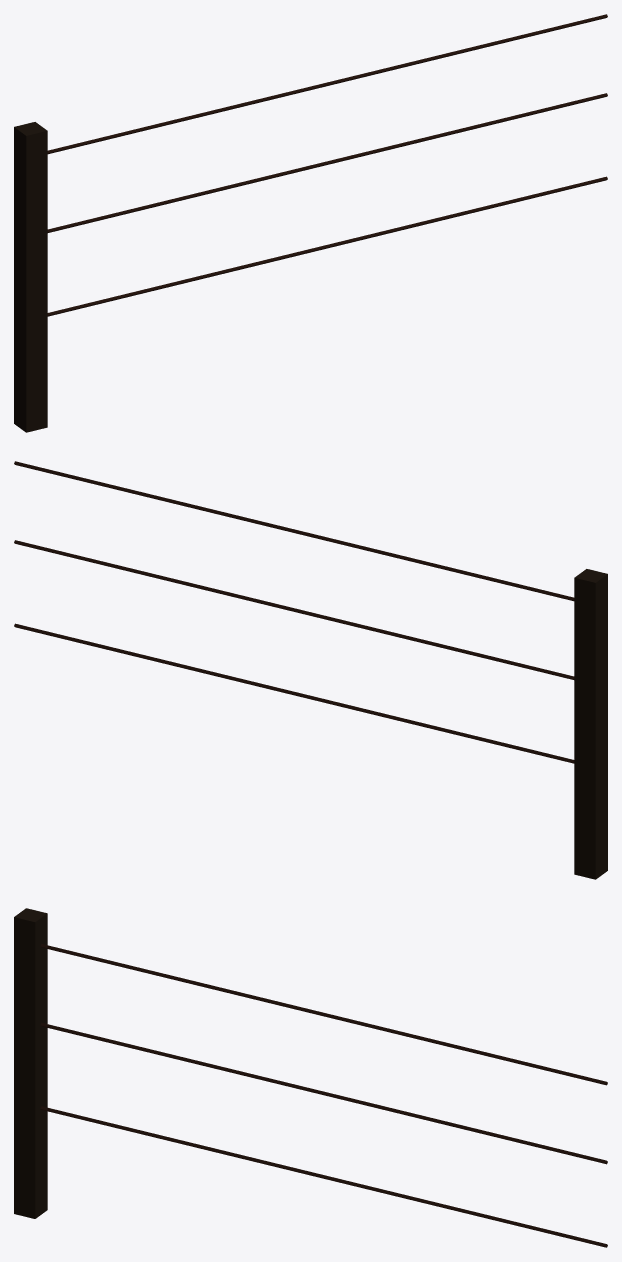
File: FENCE_POST.dae
The picture shows the model from 3 angles, top to bottom: view 1: azimuth 30°, elevation 25°; view 2: azimuth 150°, elevation 25°; view 3: azimuth 330°, elevation 25°; orthographic projection.
Visible parts, largest first — view 1: FENCE_POST; view 2: FENCE_POST; view 3: FENCE_POST.
Part boxes in pixels (x1,y1,x2,y2): FENCE_POST: (14, 14, 607, 432); FENCE_POST: (14, 461, 607, 879); FENCE_POST: (14, 908, 607, 1247).
Size of the model in its own units: 2.65 by 0.096 by 1.28.
